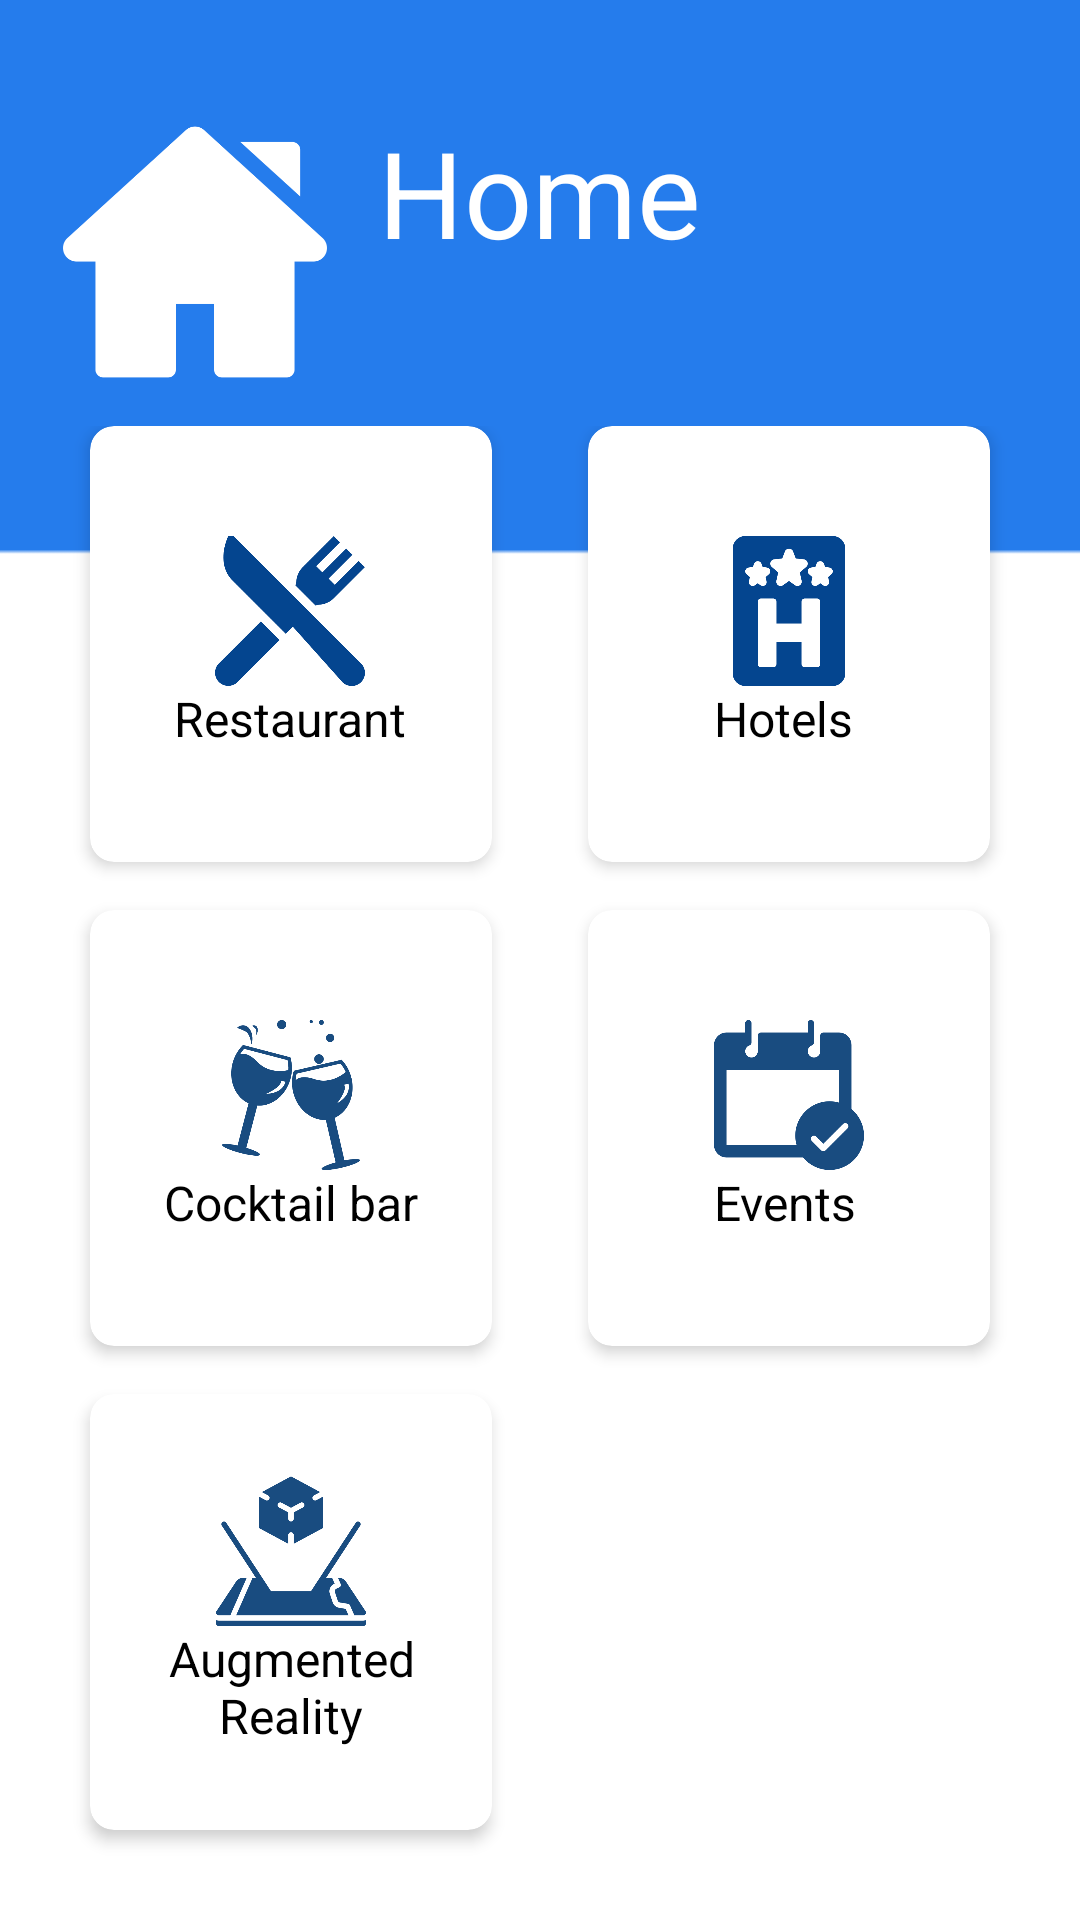

Screen size 1080×1920. Icon name, then its box in pixels as (x1, y1, x2, y2):
cheers: (222, 1020, 360, 1170)
food: (215, 536, 365, 686)
mobile: (216, 1476, 366, 1626)
sign: (733, 536, 845, 686)
